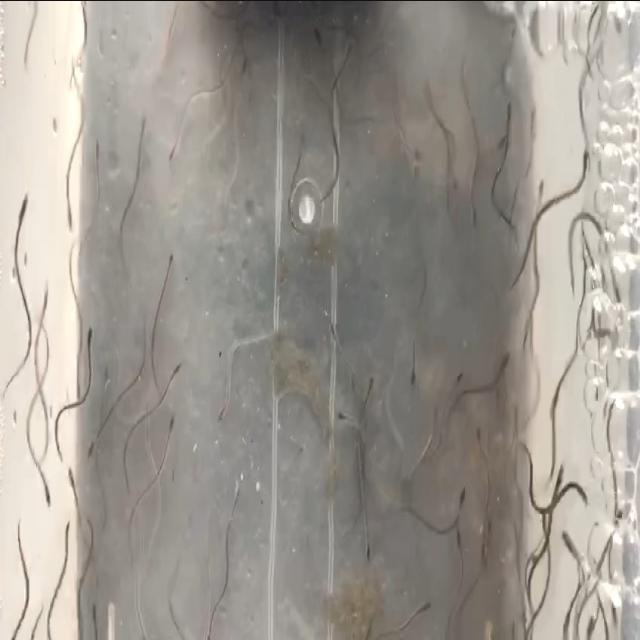active_glass_eel: (214, 374, 234, 422), (576, 132, 590, 190), (81, 422, 99, 464), (62, 186, 78, 232), (533, 172, 549, 218), (232, 61, 254, 92), (551, 452, 567, 494), (167, 132, 185, 168), (360, 534, 378, 570), (606, 504, 624, 540), (335, 408, 354, 442), (323, 312, 339, 352), (405, 352, 421, 392), (606, 592, 624, 627), (442, 184, 458, 223), (570, 486, 592, 514), (84, 314, 98, 357), (418, 591, 438, 621), (470, 421, 488, 454), (137, 112, 151, 154), (161, 250, 175, 292), (92, 132, 102, 188), (561, 526, 581, 554), (310, 27, 328, 56), (17, 186, 30, 226), (60, 510, 74, 546), (37, 286, 48, 331), (450, 520, 466, 550), (168, 352, 184, 381), (40, 472, 51, 514), (63, 459, 77, 492), (451, 363, 468, 390), (363, 365, 378, 395), (165, 406, 179, 438), (505, 97, 517, 133), (470, 198, 482, 232), (73, 371, 84, 404), (88, 590, 98, 624), (456, 480, 468, 506)
